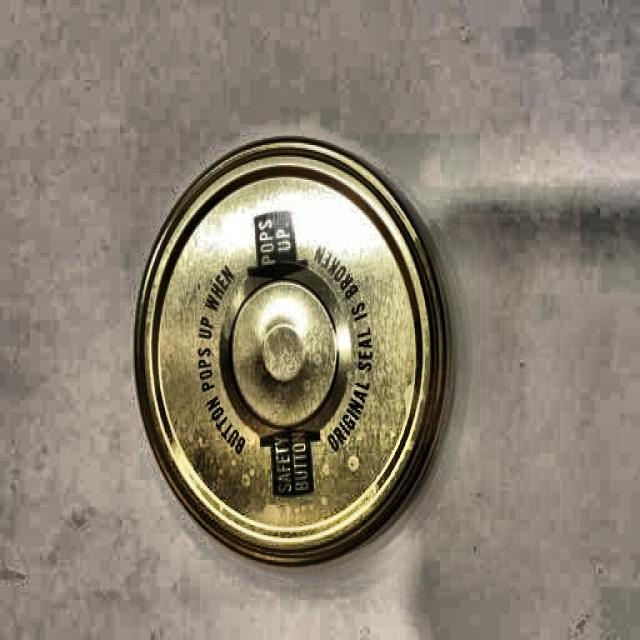metal: (131, 136, 456, 570)
